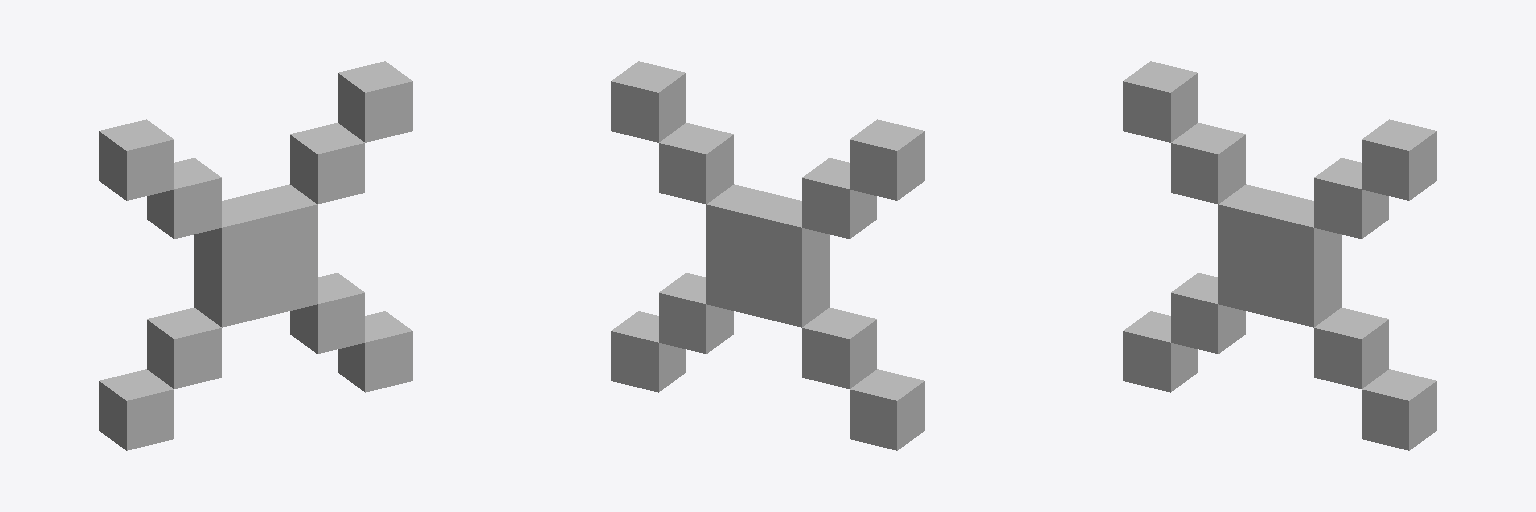
The model's file is spinning_machine_wheel_1.obj.
3 views of the same model, side by side, from view 1: azimuth 30°, elevation 25°; view 2: azimuth 150°, elevation 25°; view 3: azimuth 330°, elevation 25° (orthographic).
Visible parts, largest first — view 1: node_0_0_0; view 2: node_0_0_0; view 3: node_0_0_0.
Boxes of the visible parts, box(x1,y1,x2,y2) form: node_0_0_0: box(99, 61, 412, 450); node_0_0_0: box(611, 61, 924, 450); node_0_0_0: box(1123, 61, 1436, 450).
Size of the model in its own units: 0.375 by 0.375 by 0.0625.